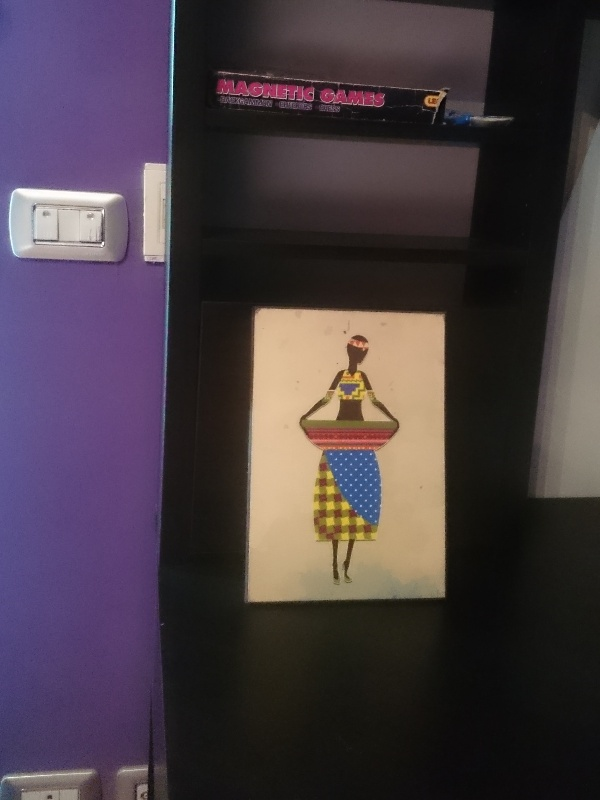my image: (246, 311, 445, 603)
